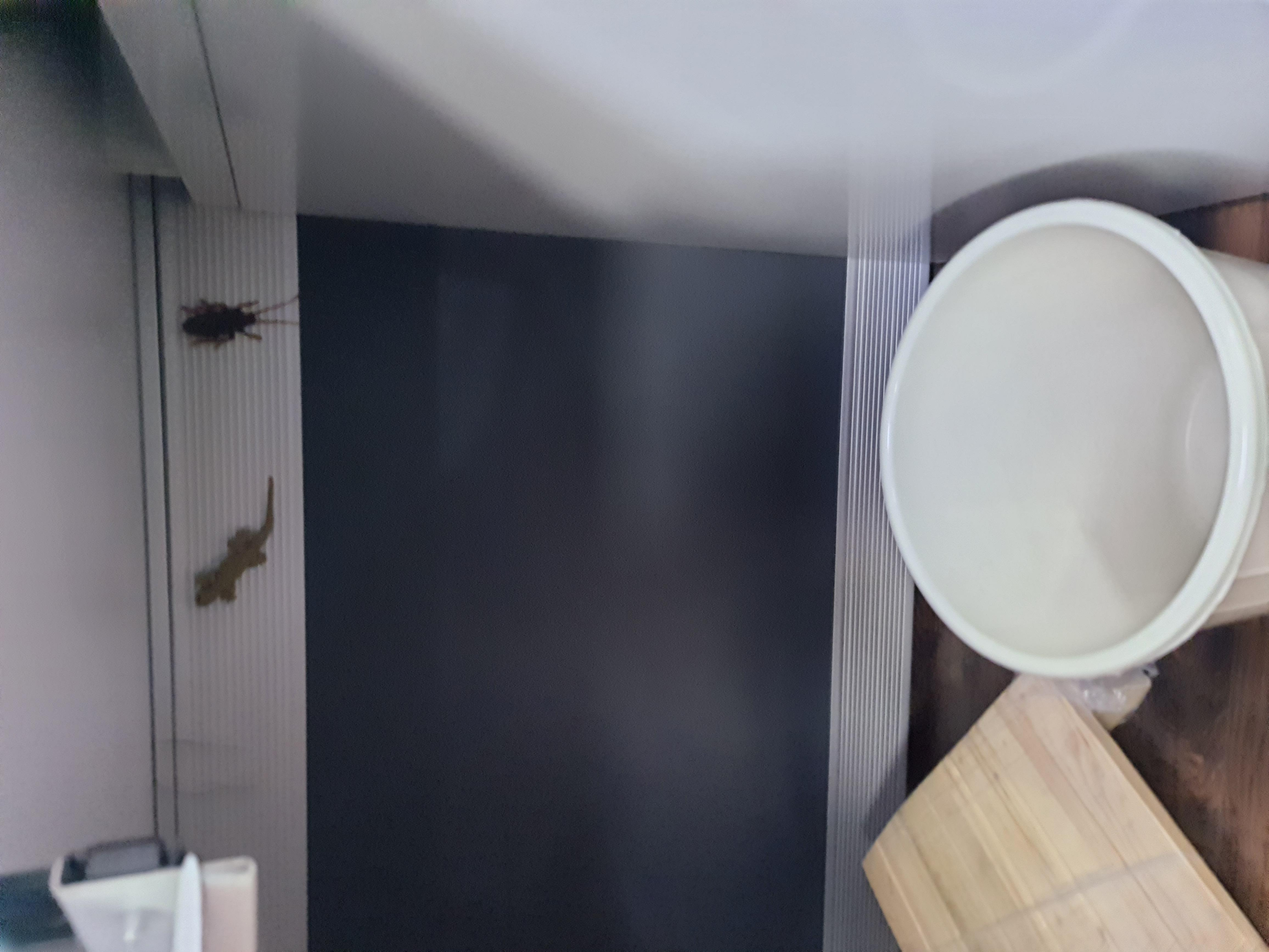cockroach: (806, 126, 887, 231)
lizard: (436, 136, 630, 206)
